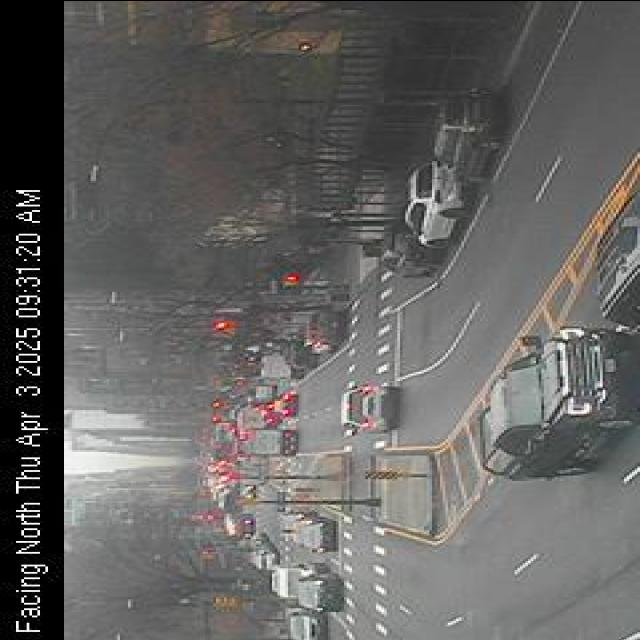open parking: (426, 0, 604, 153), (276, 292, 354, 380)
